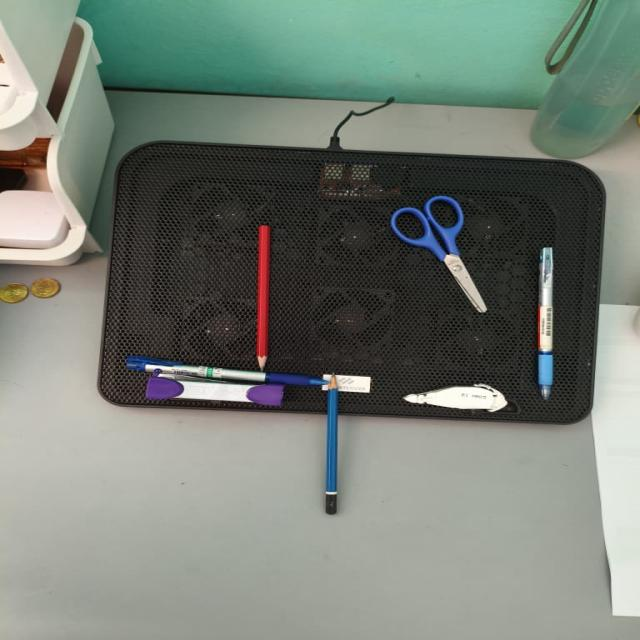pen: (128, 356, 324, 386), (538, 248, 552, 400)
pencil: (256, 225, 270, 371), (325, 373, 338, 514)
scissor: (390, 196, 485, 312)
stapler: (146, 374, 284, 406)
